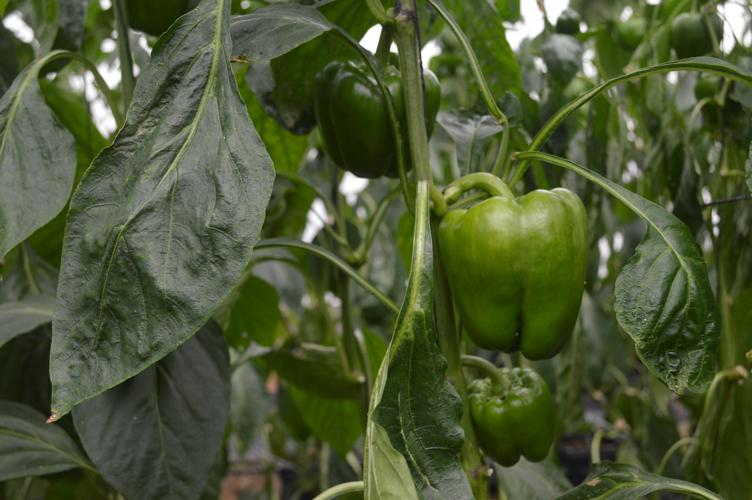BellPepper: (432, 185, 585, 357), (309, 62, 441, 182), (466, 364, 557, 464), (664, 13, 716, 52)
